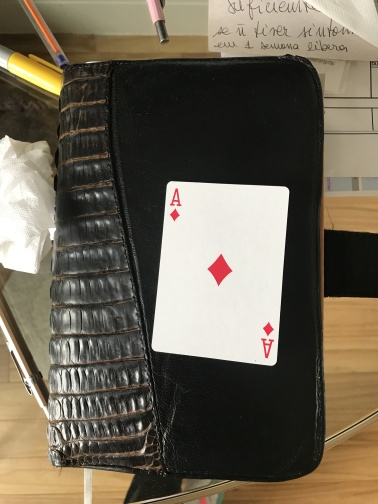ace: (150, 180, 291, 368)
